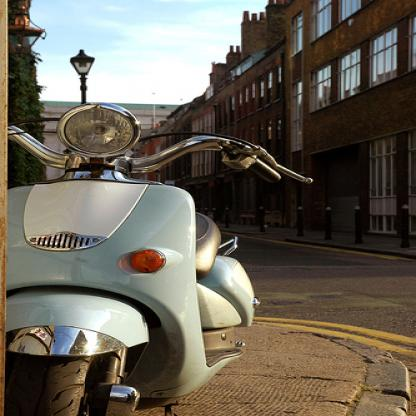motorbike: (5, 102, 316, 416)
